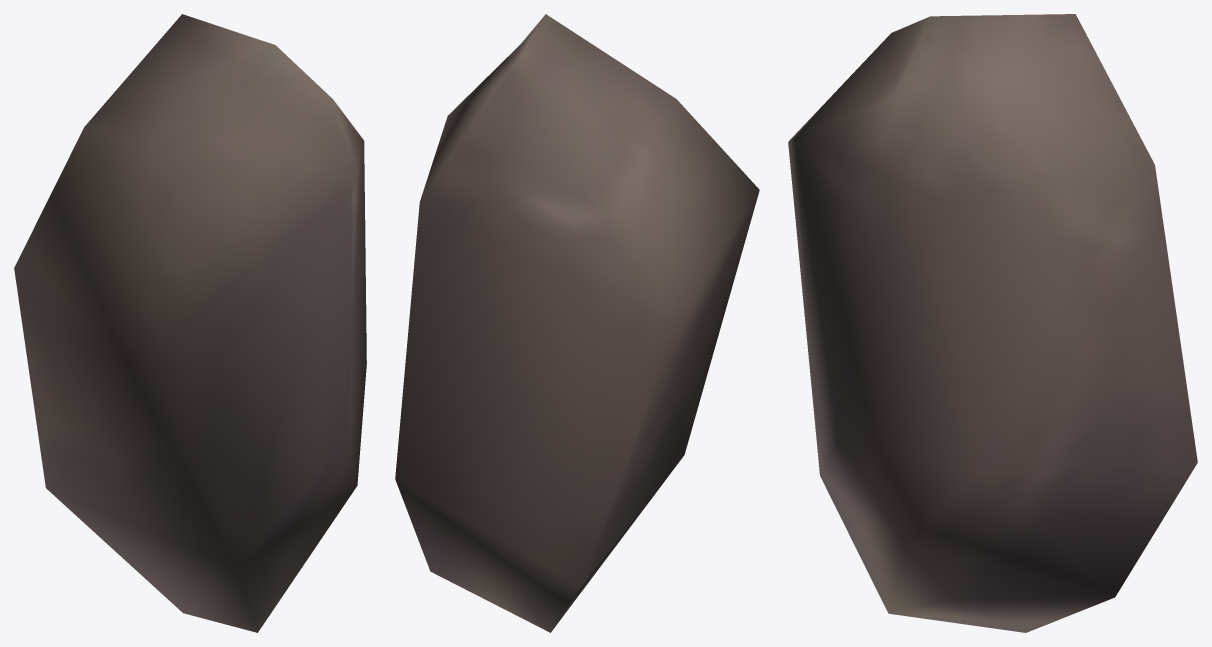
File: rocks_10.glb
3 views of the same model, side by side, from view 1: azimuth 30°, elevation 25°; view 2: azimuth 150°, elevation 25°; view 3: azimuth 270°, elevation 25° (orthographic). The views are drawn at different scales.
Parts seen in each view (by area): view 1: SM_Rocks_10_RocksStylized_M_0; view 2: SM_Rocks_10_RocksStylized_M_0; view 3: SM_Rocks_10_RocksStylized_M_0.
Boxes of the visible parts, x1,y1,x2,y2 form: SM_Rocks_10_RocksStylized_M_0: [14, 14, 366, 632]; SM_Rocks_10_RocksStylized_M_0: [395, 14, 759, 632]; SM_Rocks_10_RocksStylized_M_0: [788, 14, 1197, 632].
Size of the model in its own units: 1.72 by 3.12 by 1.8.
1 material, 1 textured.
